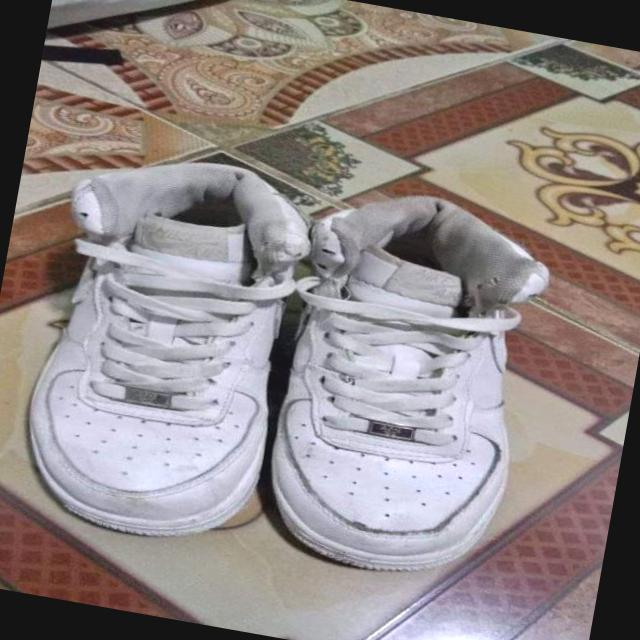nike_fake_airforce: (244, 174, 566, 596), (12, 138, 326, 556)
